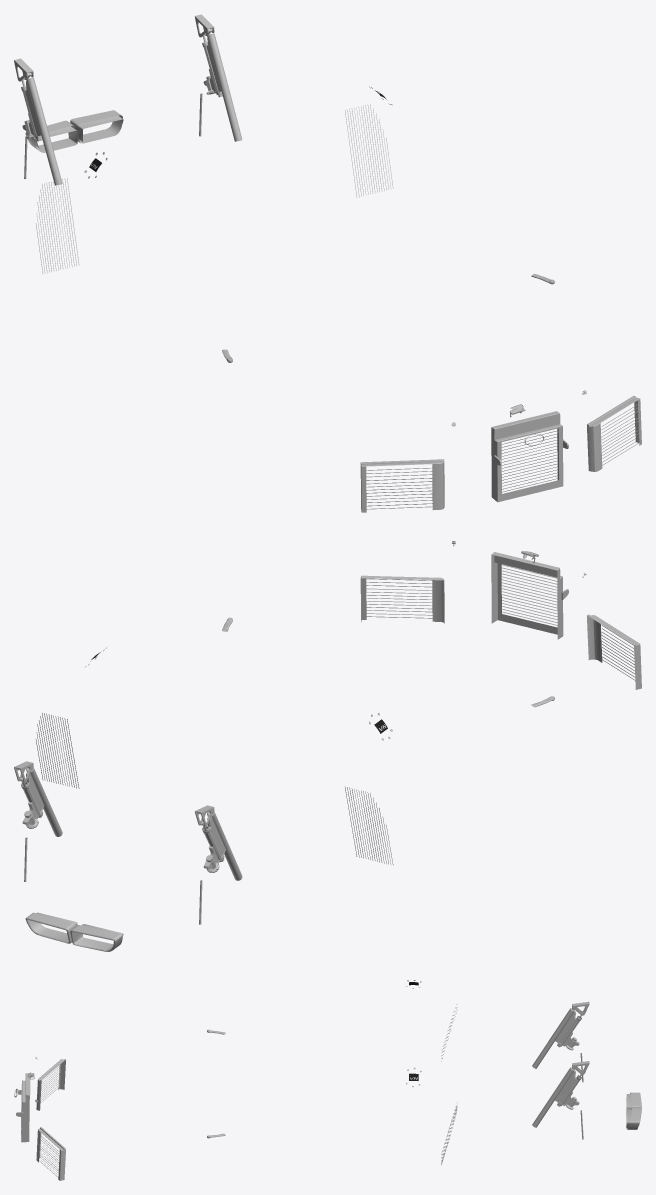
File: bugotti_veyron_sport.fbx
The picture shows the model from 3 angles, top to bottom: view 1: azimuth 30°, elevation 25°; view 2: azimuth 150°, elevation 25°; view 3: azimuth 270°, elevation 25°; orthographic projection. The views are drawn at different scales.
Parts seen in each view (by area): view 1: Body_CHROME; view 2: Body_CHROME; view 3: Body_CHROME.
Part boxes in pixels (x1,y1,x2,y2): Body_CHROME: (14,14,641,512); Body_CHROME: (14,541,641,951); Body_CHROME: (14,980,641,1180).
Bounding box in the file's own units: 189 × 85.26 × 436.
